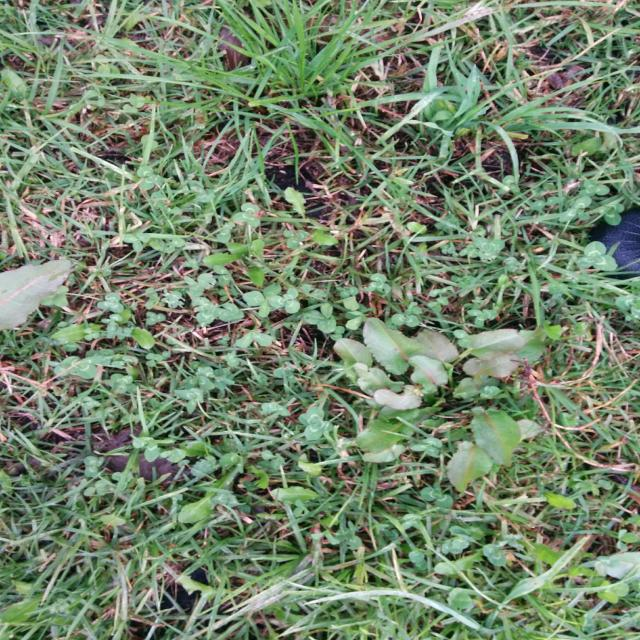Four Leaf Clover: (298, 406, 333, 440)
